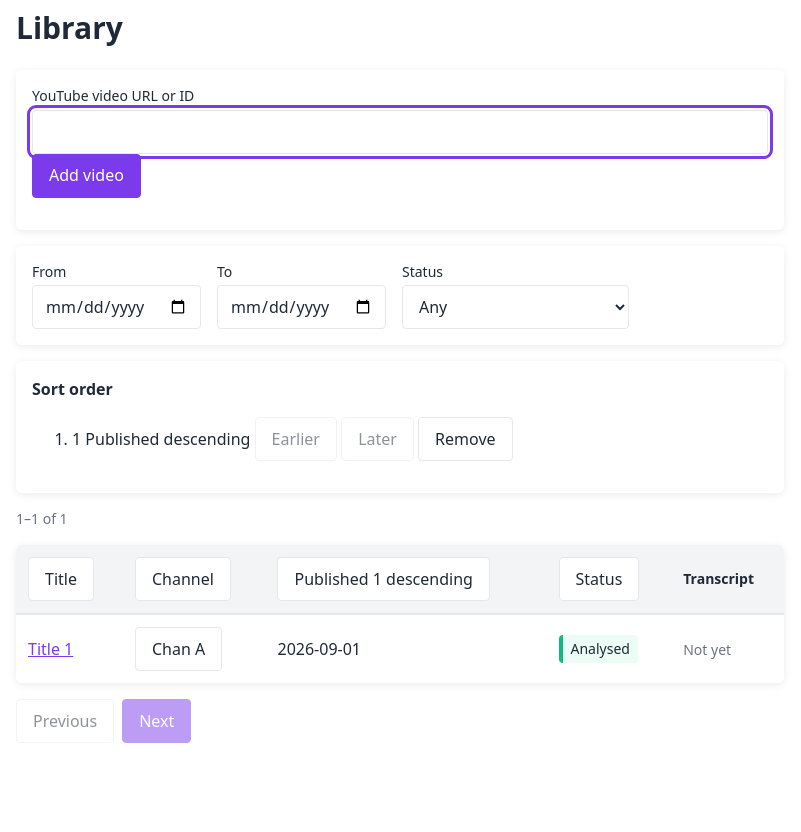
Test: single-video submission › shows safe feedback for a malformed success and retains focus and input
Type "keep-me" into the field labelled "YouTube video URL or ID" at (400, 132), box [32, 110, 768, 154]
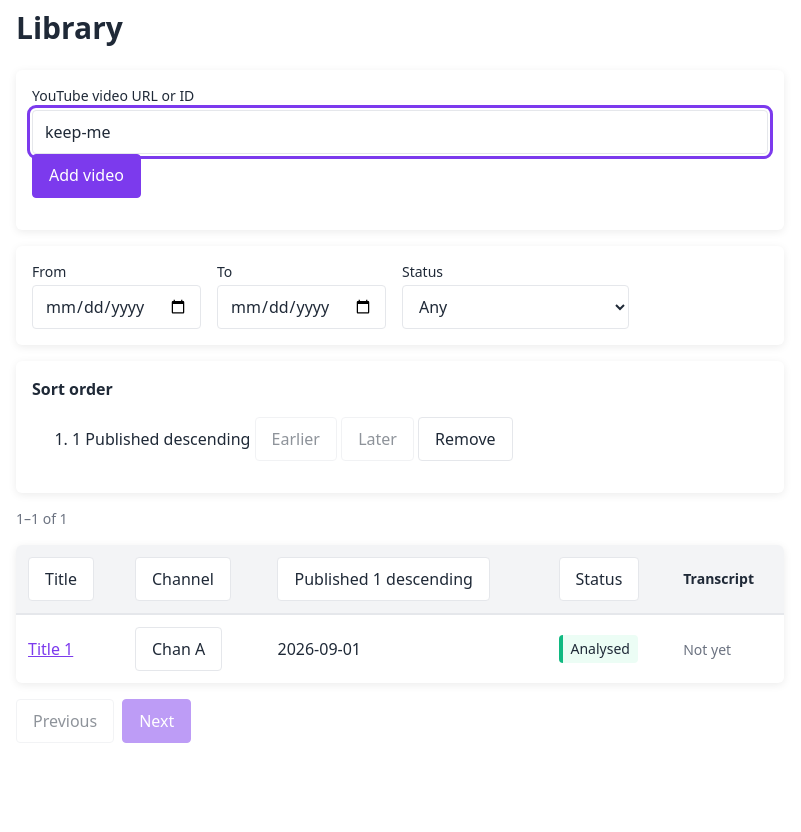
Submit the form "YouTube video URL or ID", box [16, 70, 784, 230]
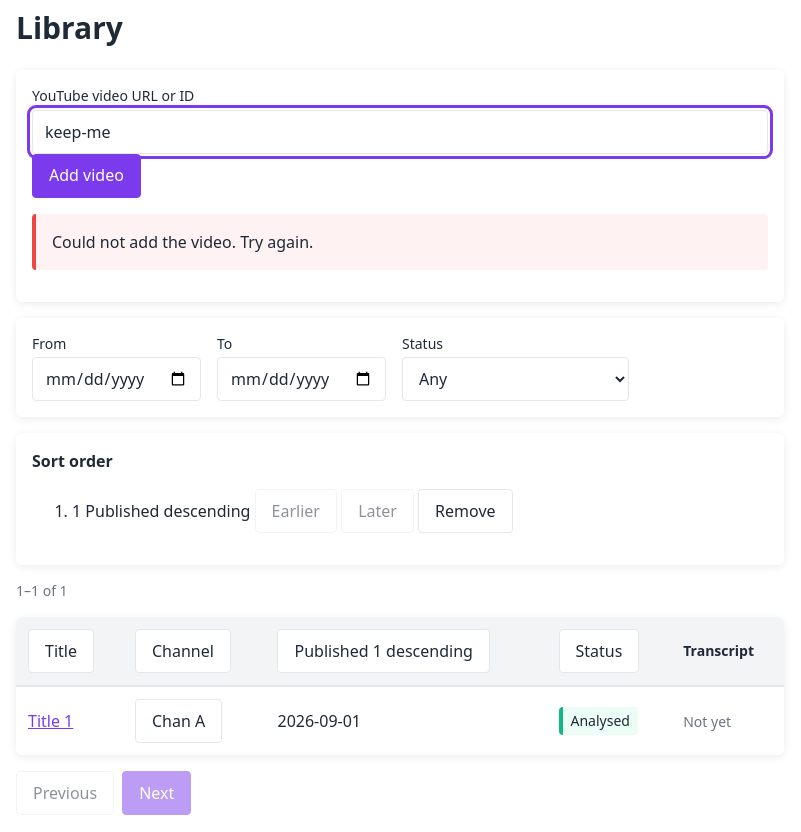
Now the message "Could not add the video. Try again." is shown, box [32, 214, 768, 270]
